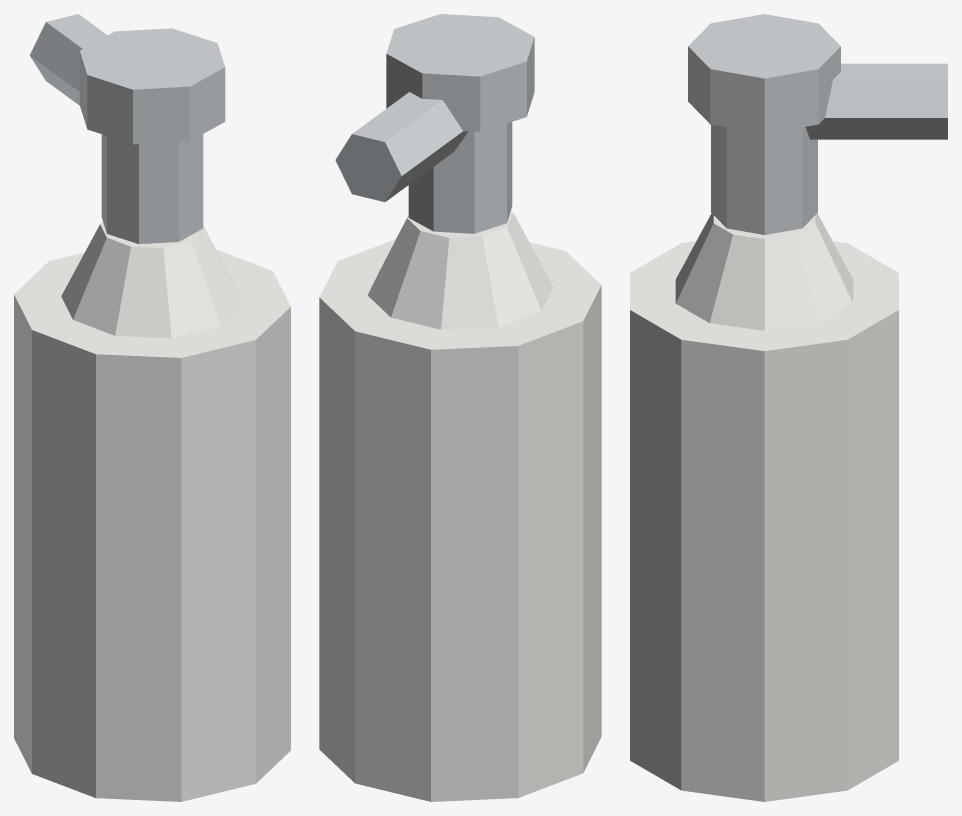
Rendered from SM_LPI_Bath_Dispenser_01.fbx.
3 renders of one model, left to right at view 1: azimuth 30°, elevation 25°; view 2: azimuth 150°, elevation 25°; view 3: azimuth 270°, elevation 25°, orthographic.
Parts seen in each view (by area): view 1: SM_LPI_Bath_Dispenser_01; view 2: SM_LPI_Bath_Dispenser_01; view 3: SM_LPI_Bath_Dispenser_01.
Part boxes in pixels (bbox=[...]): SM_LPI_Bath_Dispenser_01: bbox=[14, 14, 290, 801]; SM_LPI_Bath_Dispenser_01: bbox=[319, 14, 601, 801]; SM_LPI_Bath_Dispenser_01: bbox=[630, 14, 947, 801].
Size of the model in its own units: 0.074 by 0.201 by 0.0832.
